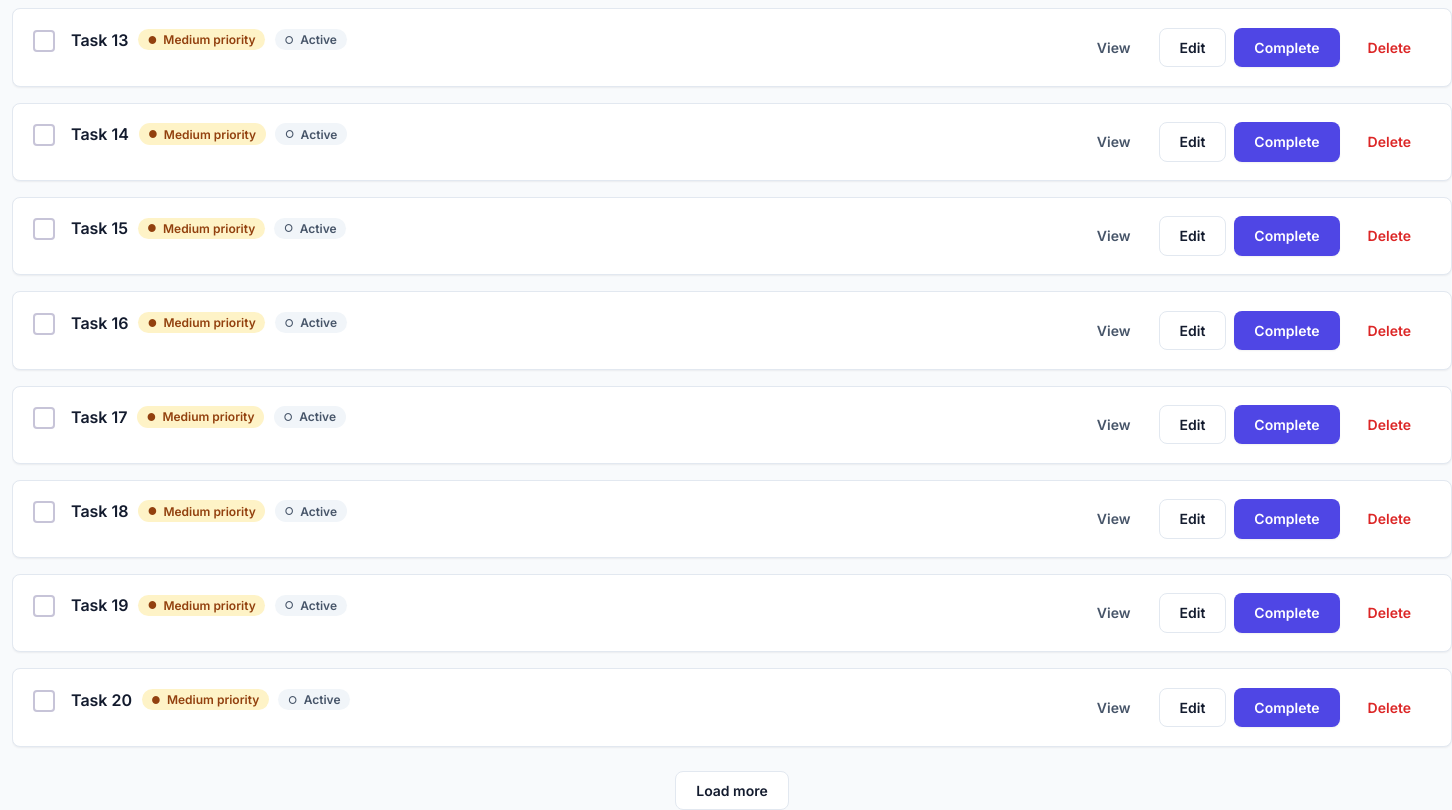
it: Load more › appears on a full page and appends the next one
This screenshot has width=1452, height=810.
(page scrolled)
Click the button "Load more" at [732, 790], box [675,771,789,809]
(page scrolled)
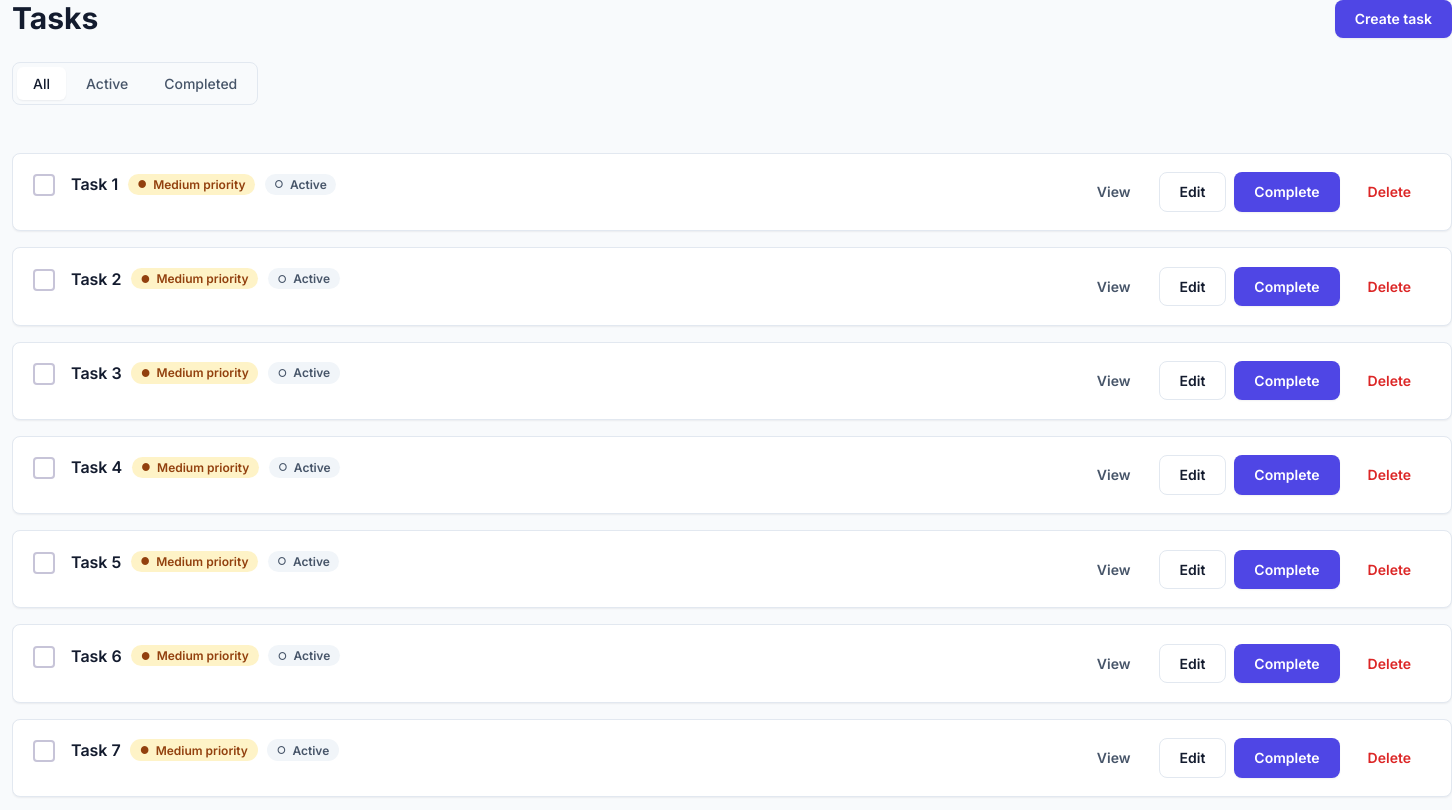
Expected: the link "Task 1" is shown, [71,172,118,196]
Expected: the button "Load more" is gone
